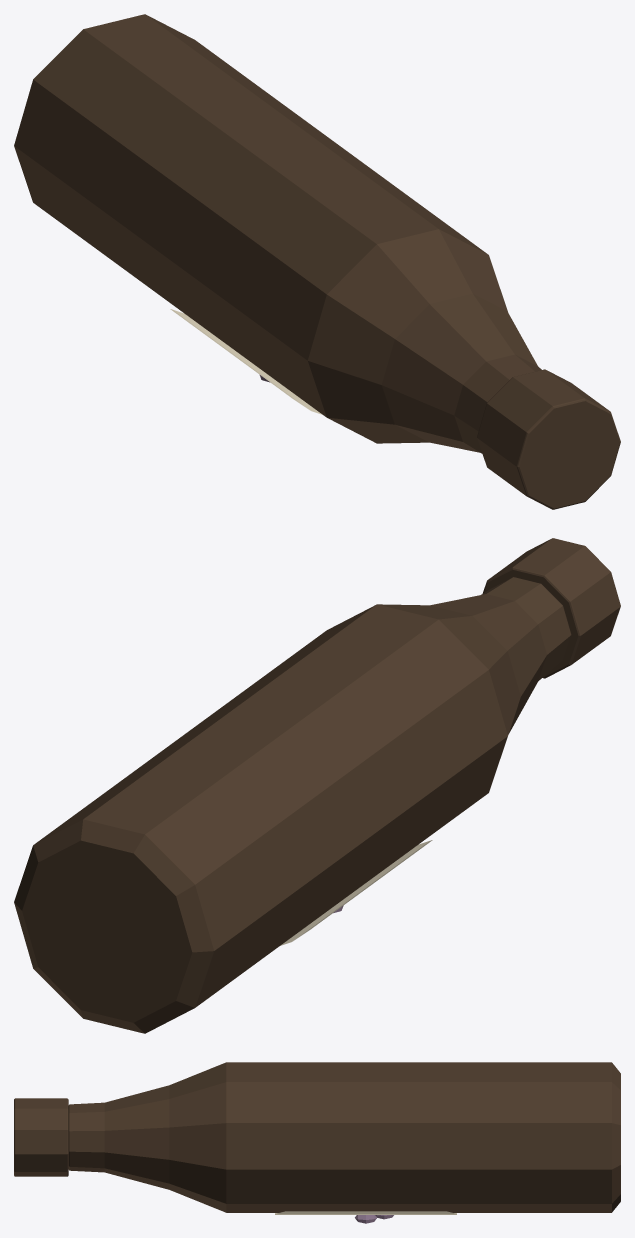
The model's file is balsamic_vinegar.glb.
The picture shows the model from 3 angles, top to bottom: view 1: azimuth 30°, elevation 25°; view 2: azimuth 150°, elevation 25°; view 3: azimuth 270°, elevation 25°; orthographic projection. The views are drawn at different scales.
Parts seen in each view (by area): view 1: balsamic_vinegar; view 2: balsamic_vinegar; view 3: balsamic_vinegar.
Part boxes in pixels (x1,y1,x2,y2): balsamic_vinegar: [14, 14, 620, 509]; balsamic_vinegar: [14, 538, 620, 1033]; balsamic_vinegar: [14, 1062, 620, 1223].
Size of the model in its own units: 0.05 by 0.0512 by 0.2.
